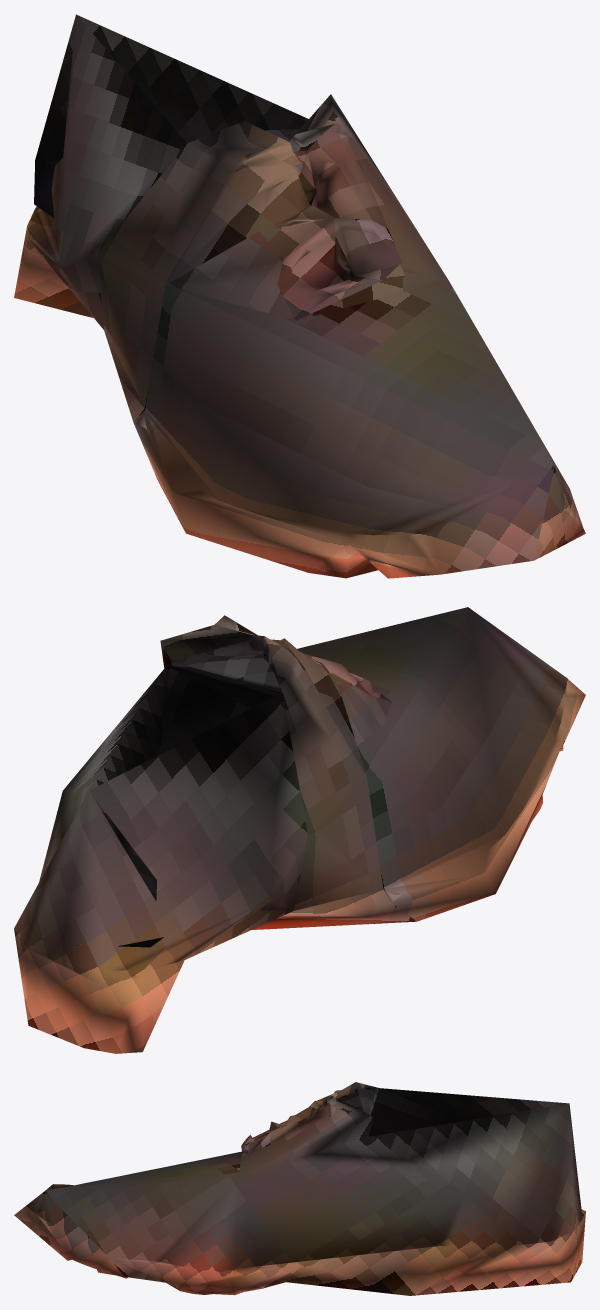
The model's file is Great_Jones_Wingtip-low.glb.
3 views of the same model, one above another, from view 1: azimuth 30°, elevation 25°; view 2: azimuth 150°, elevation 25°; view 3: azimuth 270°, elevation 25° (orthographic). The views are drawn at different scales.
Visible parts, largest first — view 1: Great_Jones_Wingtip; view 2: Great_Jones_Wingtip; view 3: Great_Jones_Wingtip.
Boxes of the visible parts, box(x1,y1,x2,y2) form: Great_Jones_Wingtip: box(14, 14, 585, 578); Great_Jones_Wingtip: box(14, 607, 585, 1053); Great_Jones_Wingtip: box(14, 1082, 585, 1295).
Bounding box in the file's own units: 0.1085 × 0.1076 × 0.3073.
Materials: 1 (1 with a texture image).
